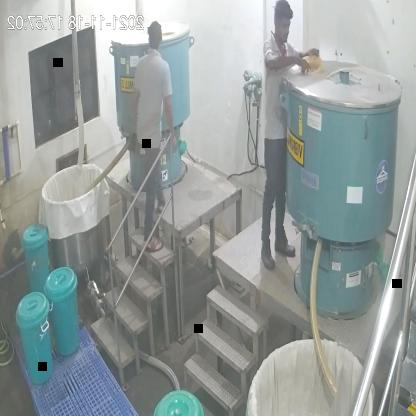no_shoes: (144, 234, 164, 255)
